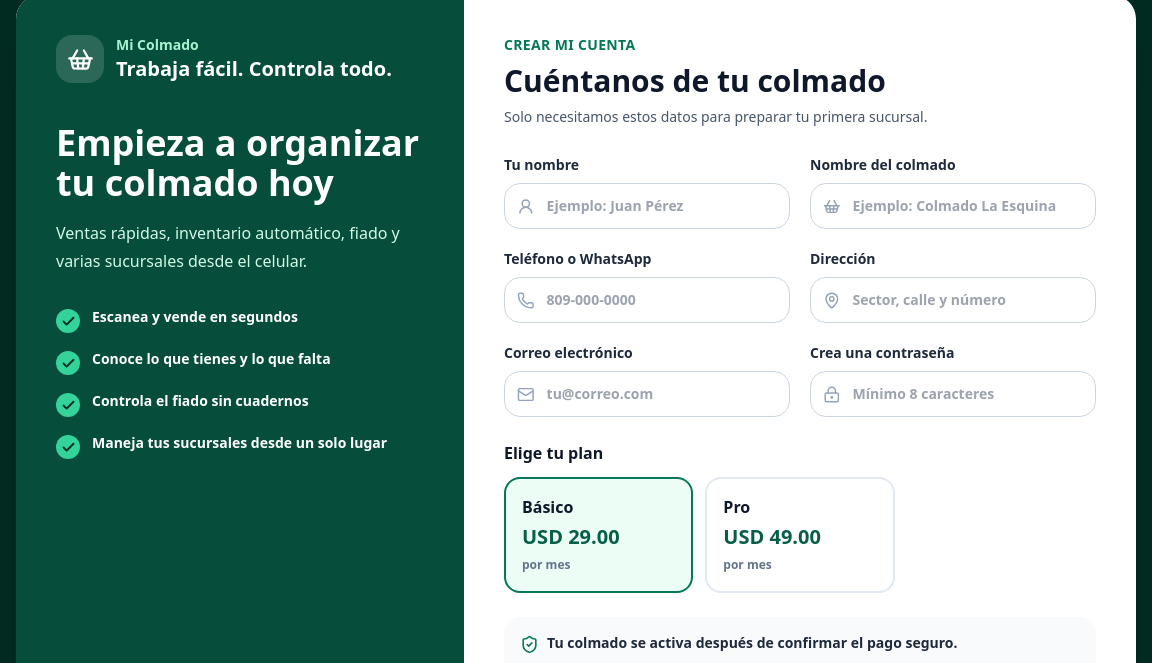
Test: ColmadoSignupPage › shows a clear backend error and lets the owner try again
Expected: the radio button labelled "Básico USD 29.00 por mes" is shown, [504,477,693,593]
Step 1. Type "Juan Pérez" into the field labelled "Tu nombre" → (656, 206), box [535,184,777,228]
Step 2. Type "Colmado La Esquina" into the field labelled "Nombre del colmado" → (962, 206), box [841,184,1083,228]
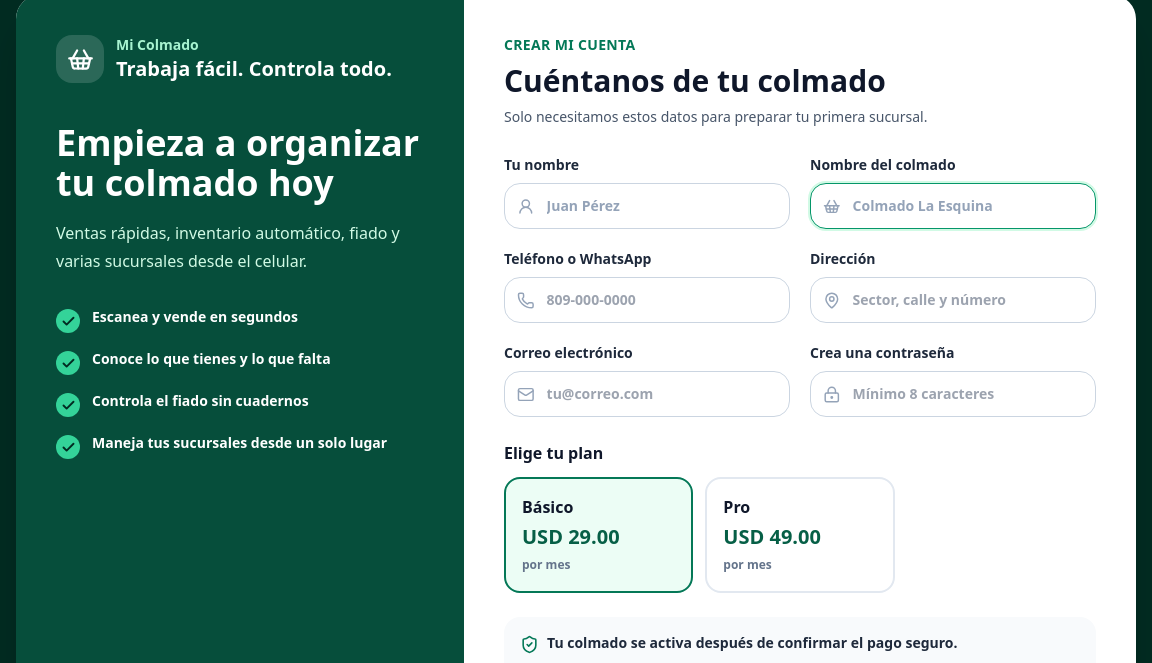
Step 3. Type "8095550101" into the field labelled "Teléfono o WhatsApp" → (656, 300), box [535,278,777,322]
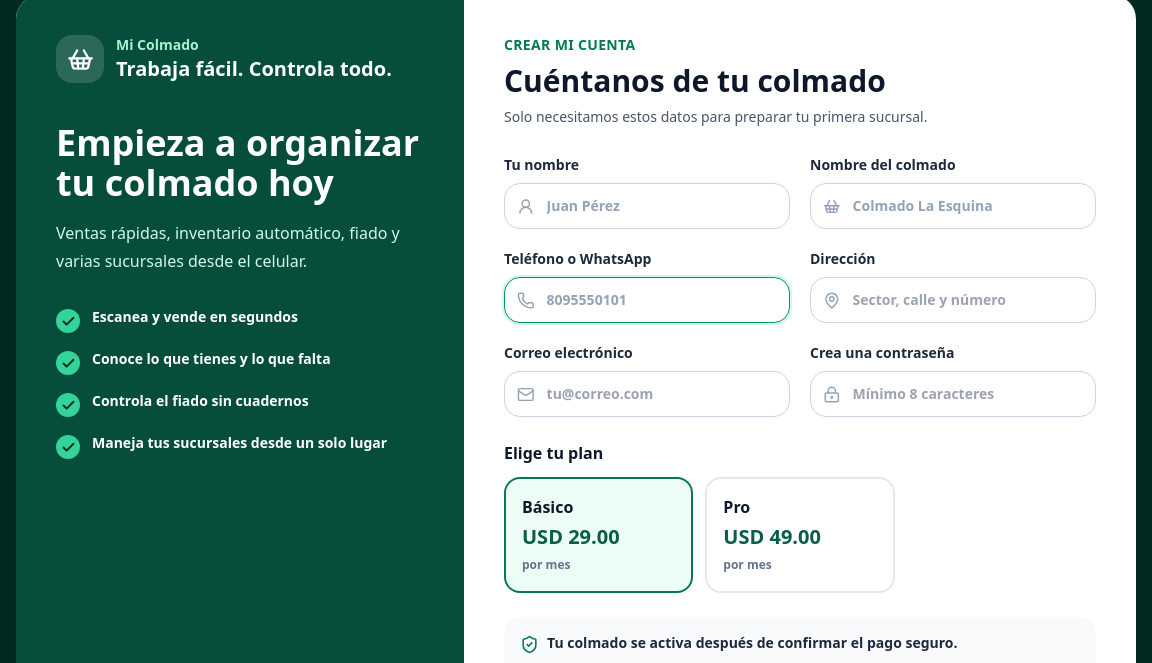
Step 4. Type "Calle Duarte número 10" into the field labelled "Dirección" → (962, 300), box [841,278,1083,322]
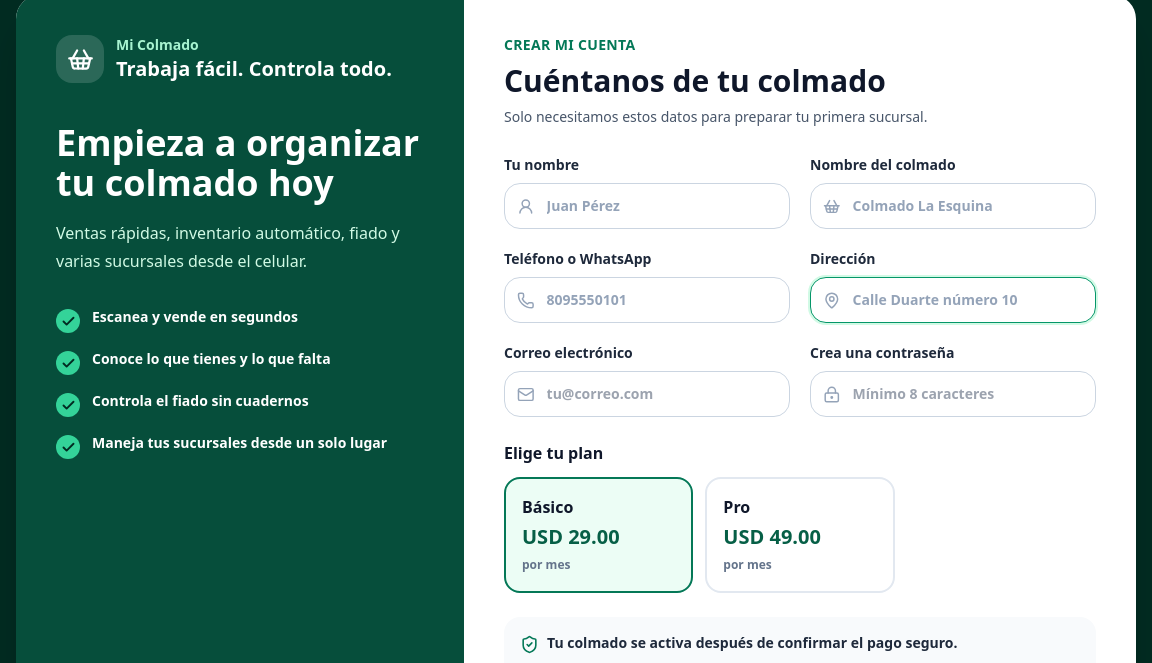
Step 5. Type "juan@example.com" into the field labelled "Correo electrónico" → (656, 394), box [535,372,777,416]
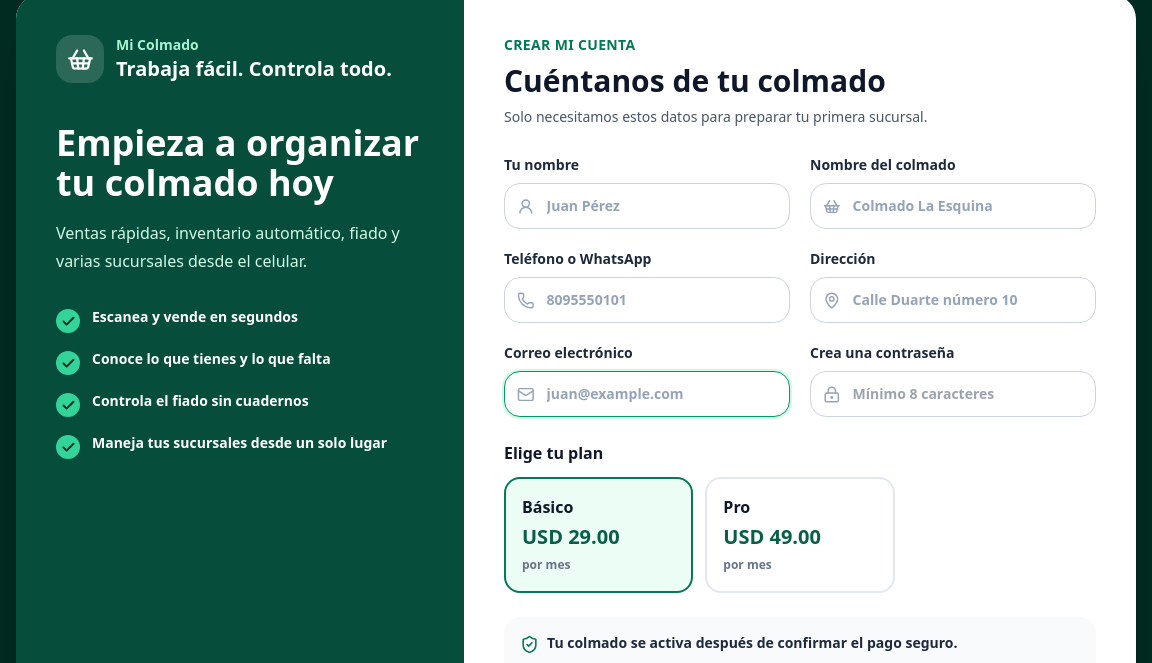
Step 6. Type "ClaveSegura123" into the password field labelled "Crea una contraseña" → (962, 394), box [841,372,1083,416]
(page scrolled)
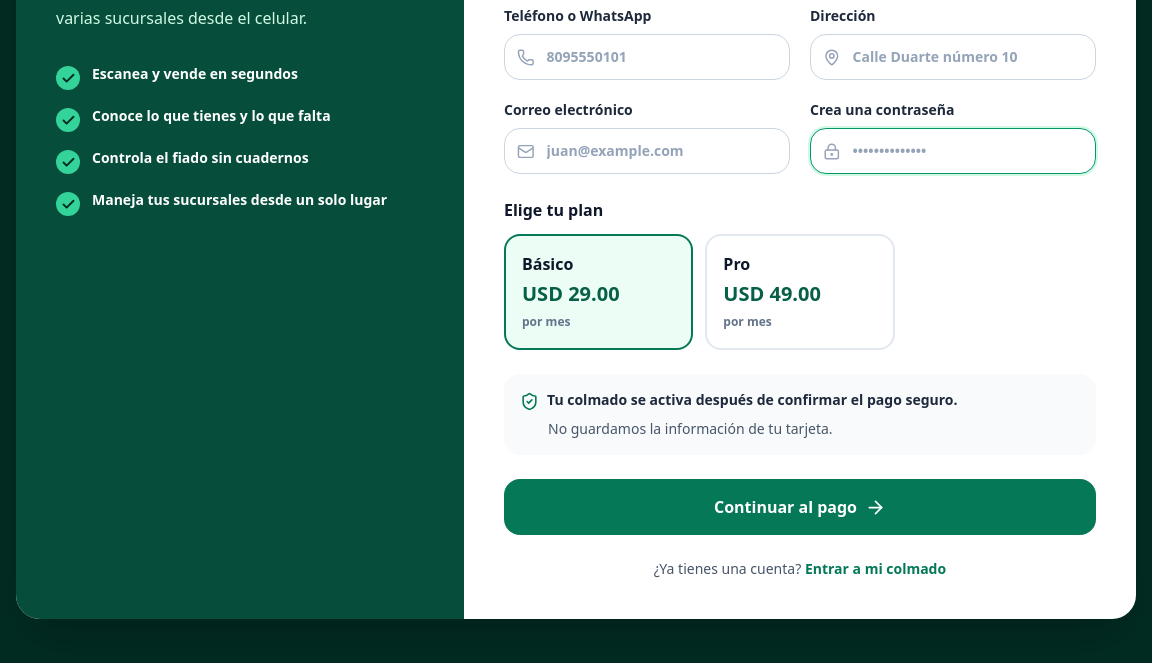
Step 7. Click the button "Continuar al pago" → (800, 507), box [504,479,1096,535]
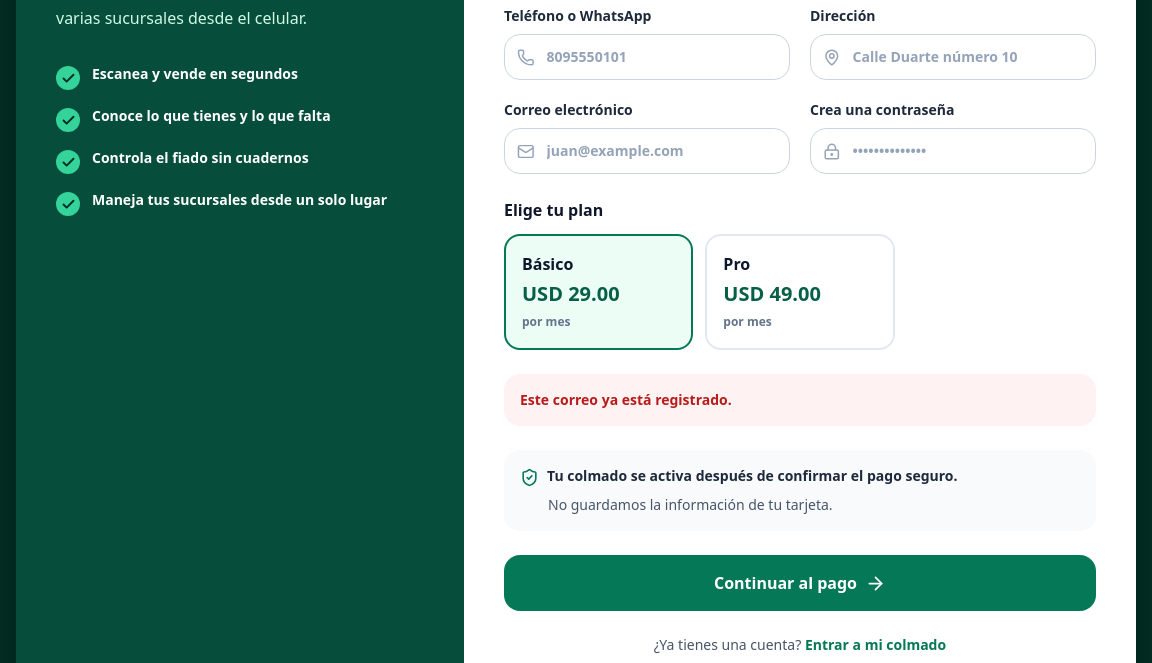
Expected: the button "Continuar al pago" is enabled, [504,555,1096,611]
Result: the message reads "Este correo ya está registrado." at [520,390,732,409]
